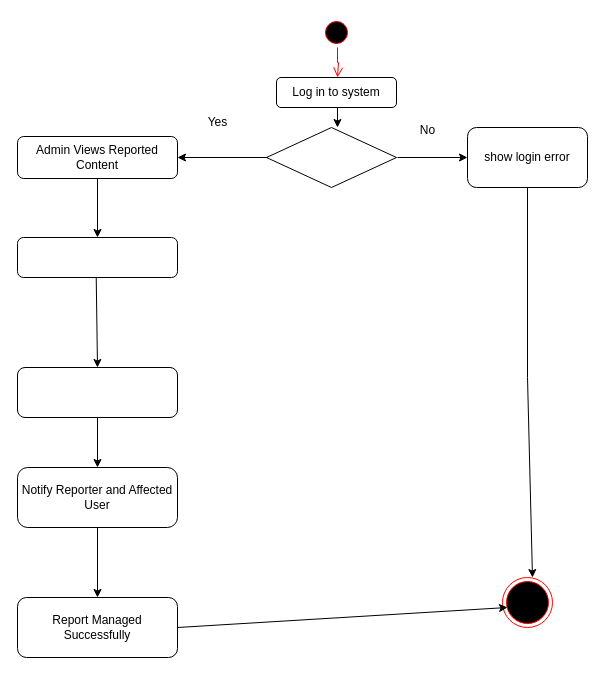
Image size: 605x675. Some labels were removed from this diagram. Each missing label, with the box of its shape:
Is admin logged in?: (266, 126, 396, 188)
Review Content and Take Action: (16, 236, 178, 278)
Update Report Status in Database: (16, 366, 178, 418)
